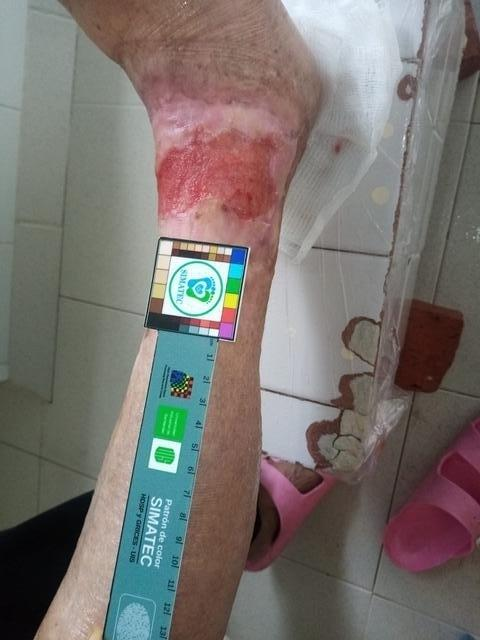wound: (156, 128, 283, 220)
